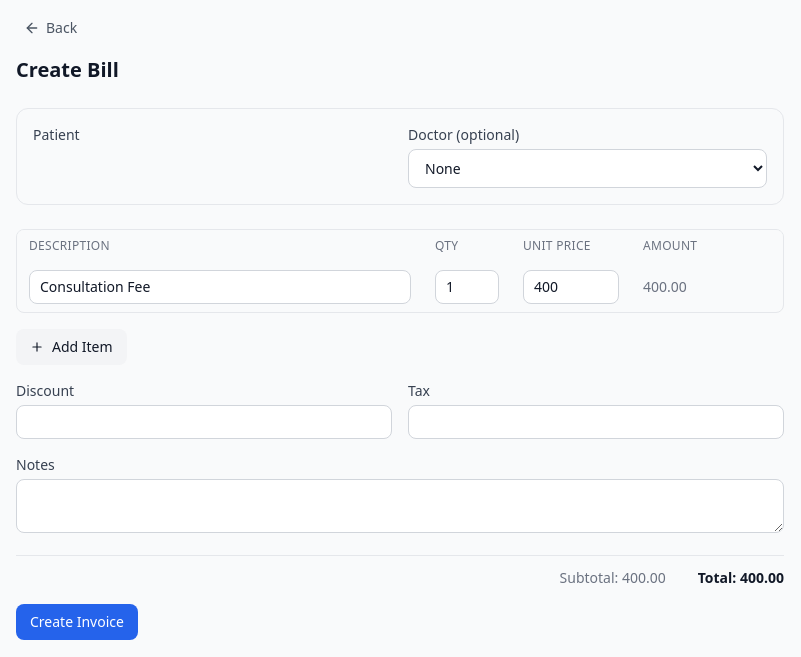
Test: Create Bill › follows the chosen doctor's fee, falling back to the clinic's
Check: the number field showing "400" is shown, box x1=523 y1=270 x2=619 y2=304
Select "Dr. Kavita Nair" in the dropdown labelled "Doctor (optional)". click: (588,168)
box: x1=408 y1=149 x2=767 y2=188
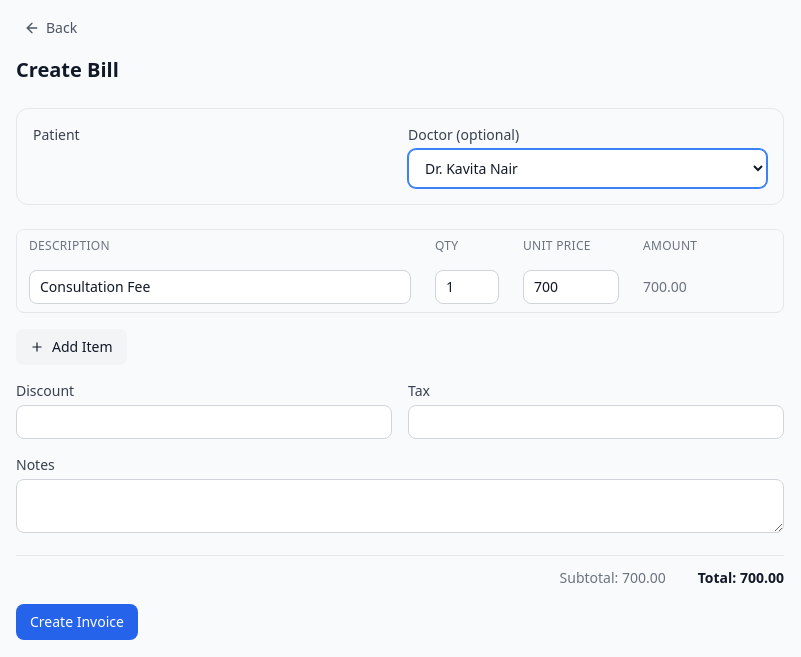
Check: the number field named "Unit price (item 1)" holds "700", box x1=523 y1=270 x2=619 y2=304
Select "Dr. Arjun Rao" in the dropdown labelled "Doctor (optional)". click: (588,168)
box: x1=408 y1=149 x2=767 y2=188
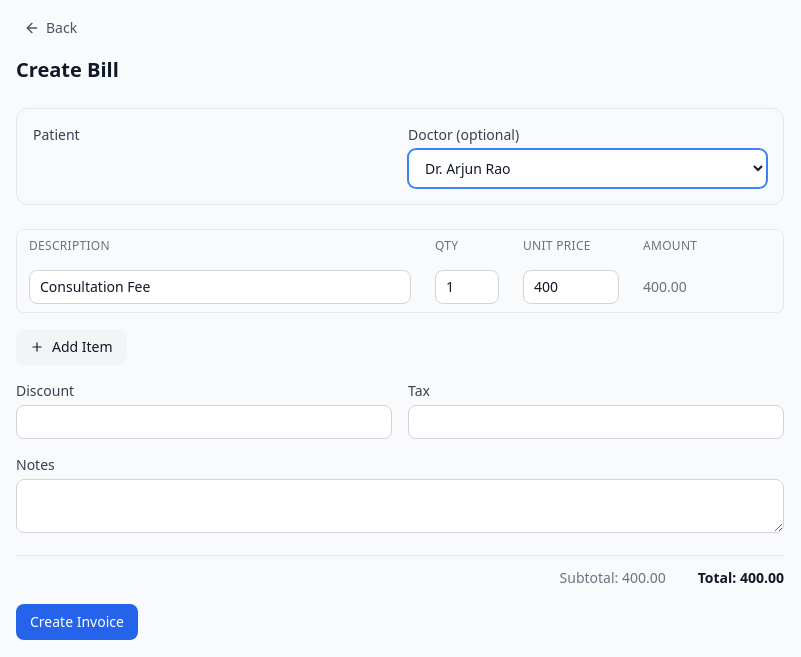
Check: the number field named "Unit price (item 1)" holds "400", box x1=523 y1=270 x2=619 y2=304
